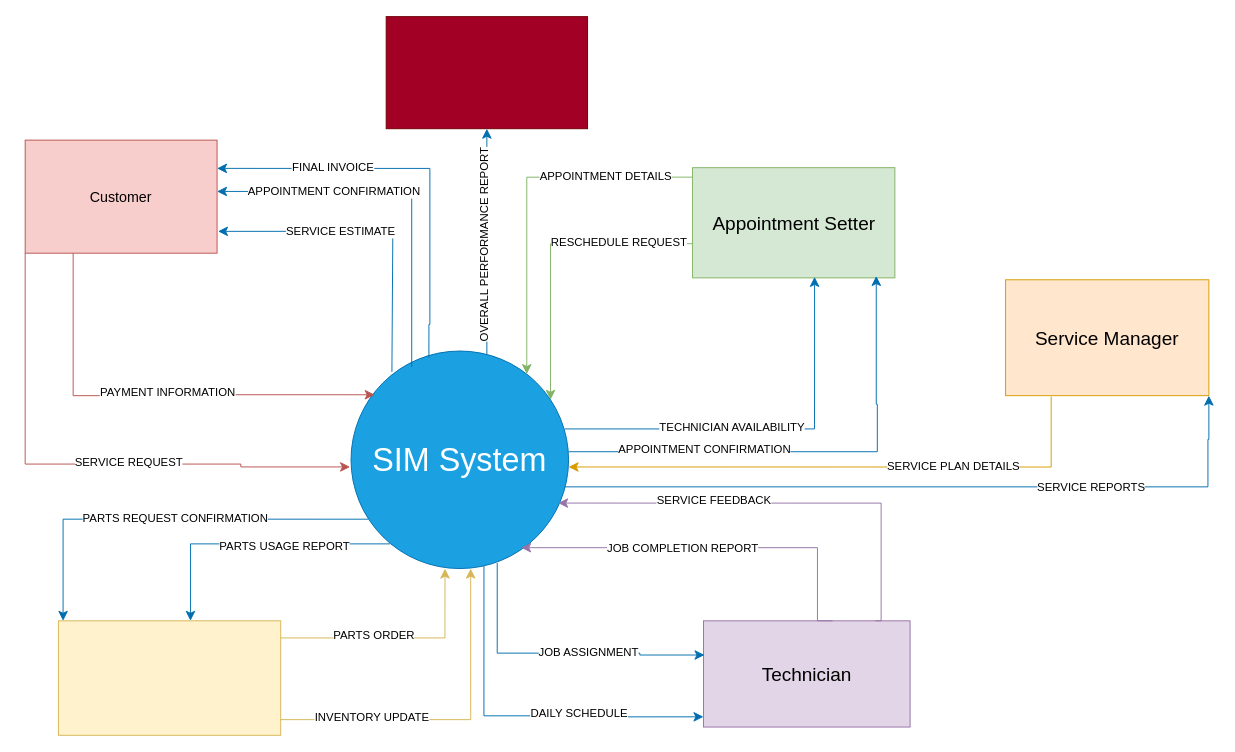
Image size: 1235x752. Some labels were removed from this diagram. The centre of each missing label's shape, as x and y in pixels:
Parts Department: [169,677]
Store Manager: [486,72]
